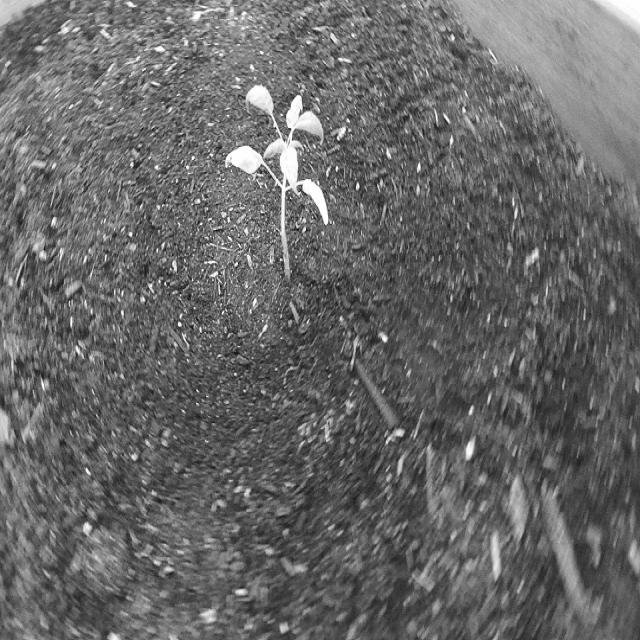Healthy: (216, 65, 341, 292)
